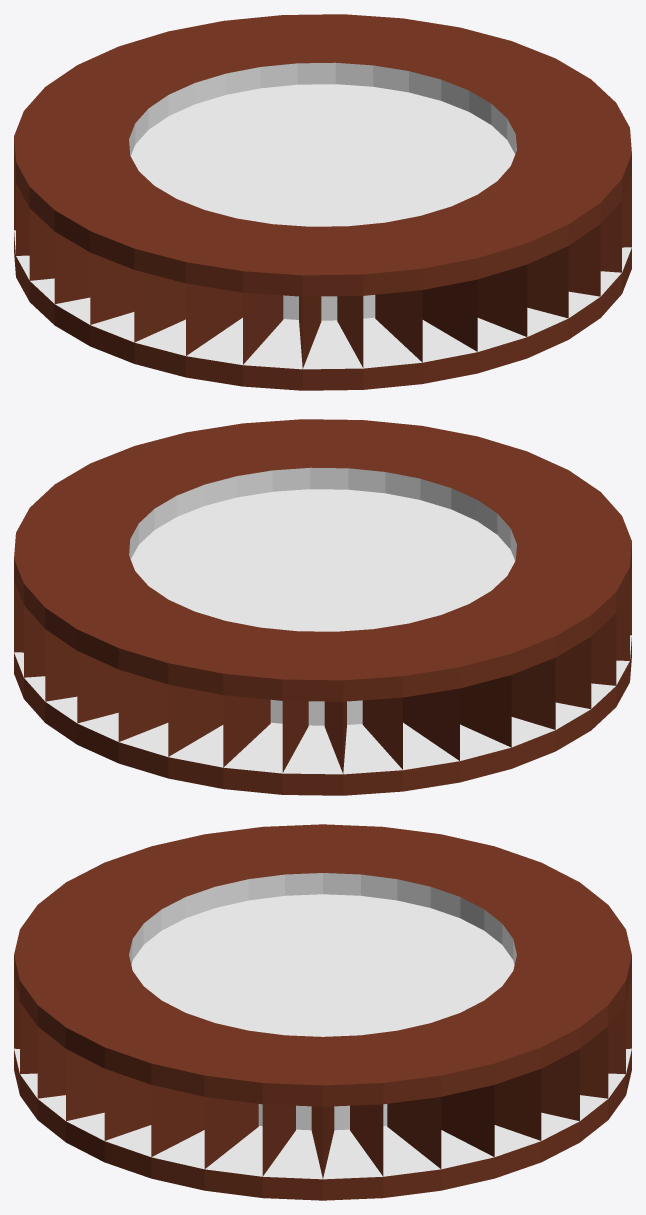
Rendered from jap02.fbx.
3 renders of one model, top to bottom at view 1: azimuth 30°, elevation 25°; view 2: azimuth 150°, elevation 25°; view 3: azimuth 270°, elevation 25°, orthographic.
Visible parts, largest first — view 1: Cylinder; view 2: Cylinder; view 3: Cylinder.
Part boxes in pixels (x1,y1,x2,y2): Cylinder: (14,14,631,390); Cylinder: (14,419,631,795); Cylinder: (14,824,631,1200).
Size of the model in its own units: 508 by 105 by 508.
